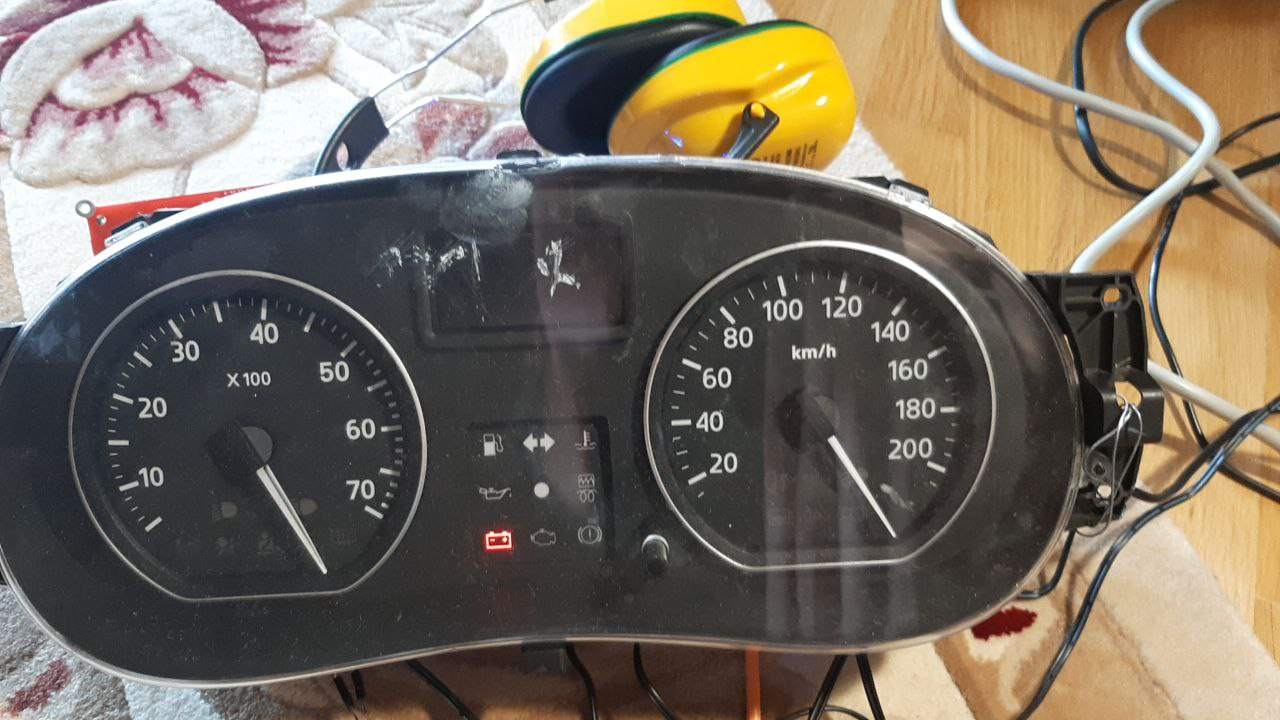accumulator: (475, 533, 517, 554)
